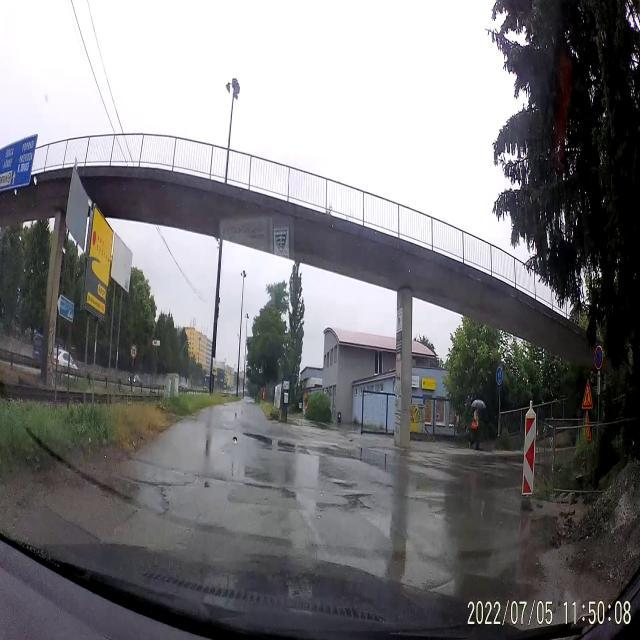Pothole: (108, 471, 172, 517), (312, 485, 374, 516), (228, 482, 294, 508)
